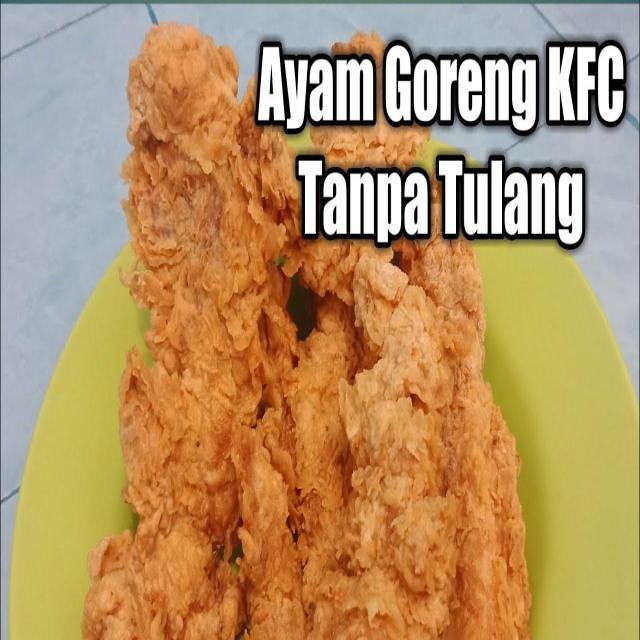Chicken -Fried Chicken-: (96, 22, 262, 640)
